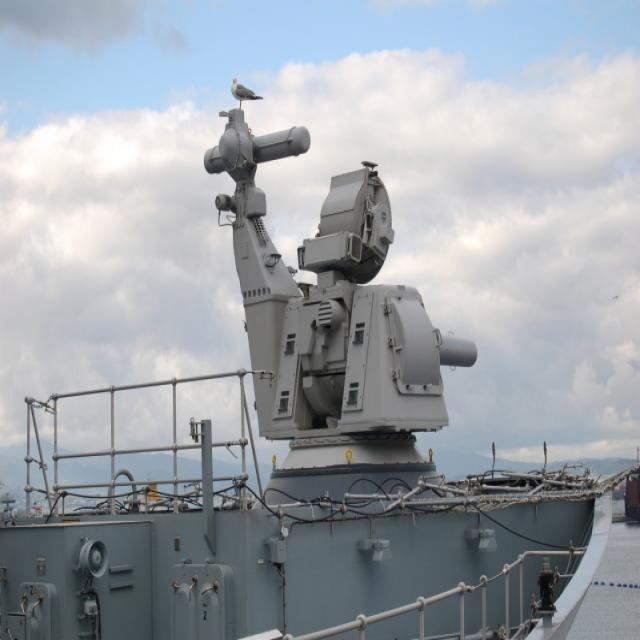Portanaves: (11, 75, 620, 619)
